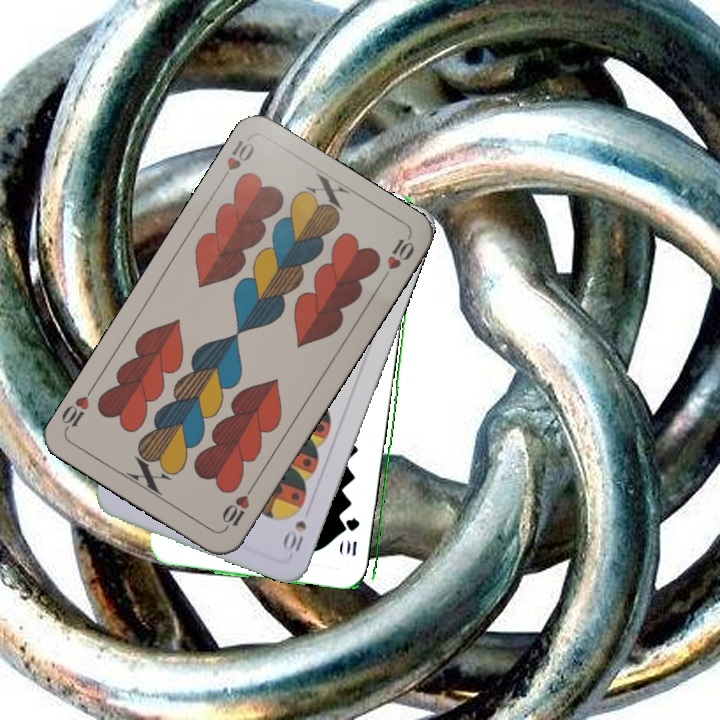G10: (342, 514, 362, 558)
H10: (215, 136, 257, 187), (218, 480, 258, 533)
S10: (281, 516, 310, 555)
